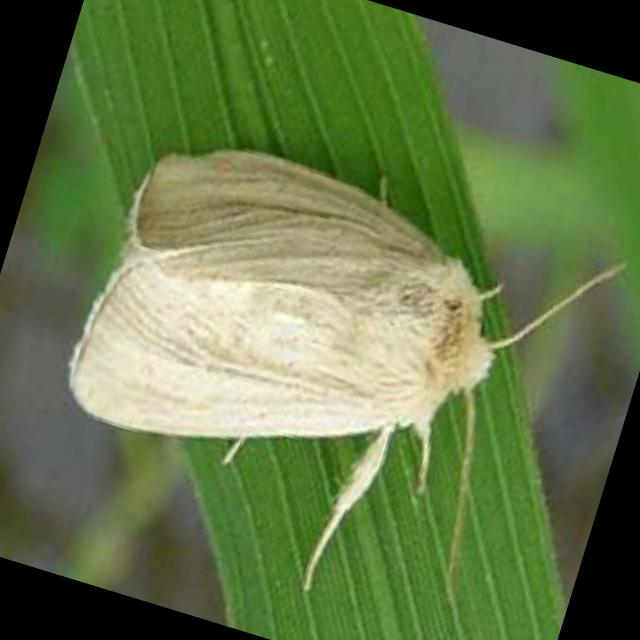stem-borer: (30, 102, 559, 604)
